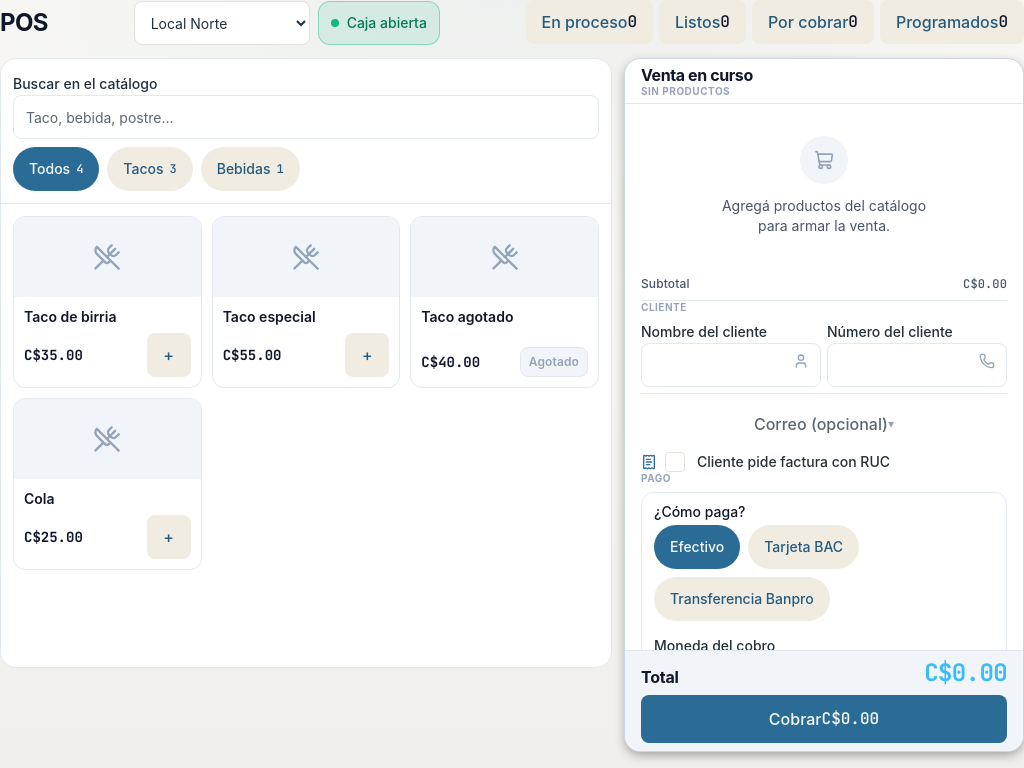
PosClient › cambiar de local vuelve a pedir el catálogo y arranca una venta nueva
Expected: the text "Taco de birria" is shown, x1=24 y1=308 x2=116 y2=325
Click the button named "Agregar Taco de birria a la venta" at (169, 355), box x1=147 y1=333 x2=191 y2=377
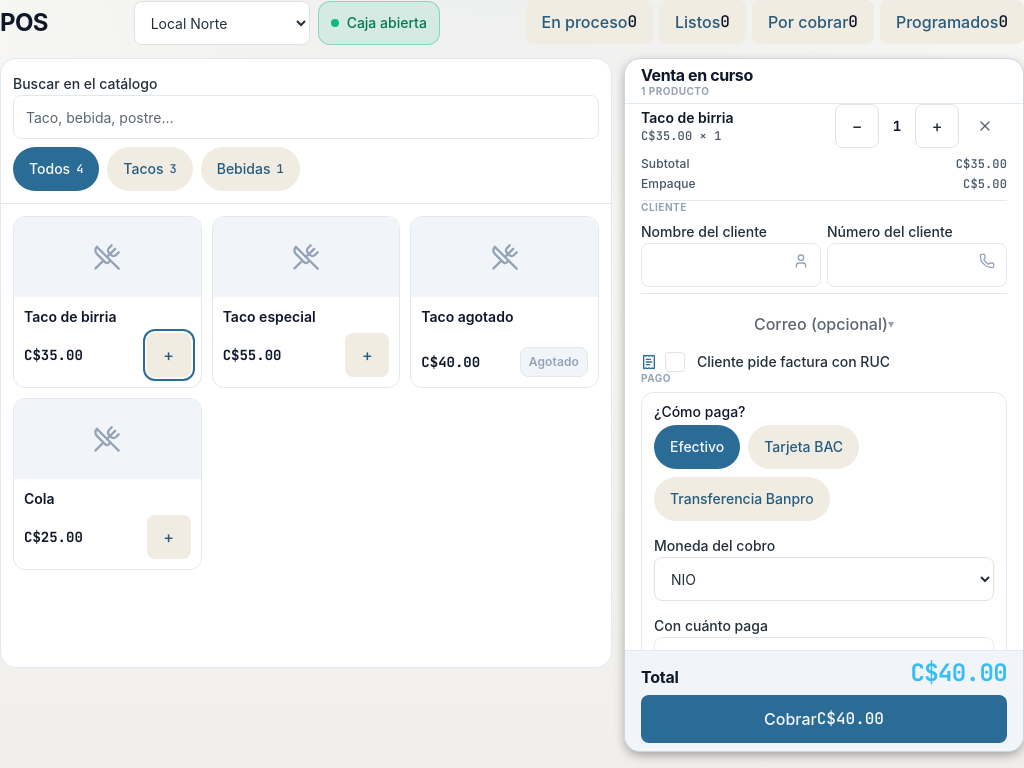
Select "Local Sur" in the dropdown named "Local" at (222, 23), box x1=134 y1=1 x2=310 y2=45
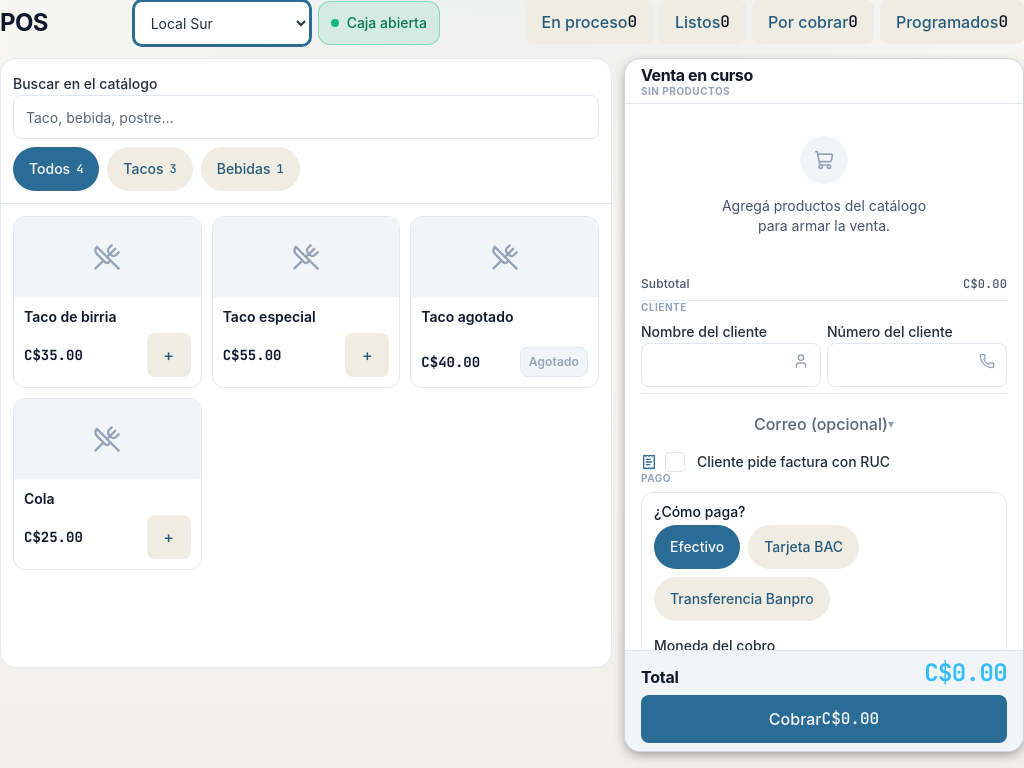
Result: the text "Agregá productos del catálogo para armar la venta." is shown at x1=712 y1=196 x2=936 y2=236
